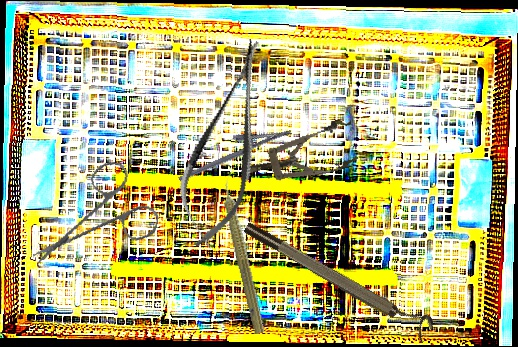Fixation Ring: (241, 211, 437, 344)
Handpiece: (214, 170, 272, 336)
Iris Scissors: (31, 149, 169, 286)
Micro Scissor: (164, 32, 289, 255)
Needle Holder: (171, 114, 293, 182)
Speculum: (235, 116, 363, 195)
